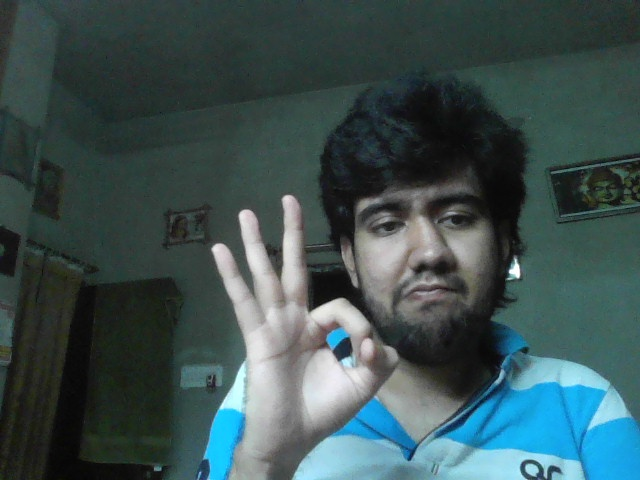Nice: (211, 195, 399, 460)
